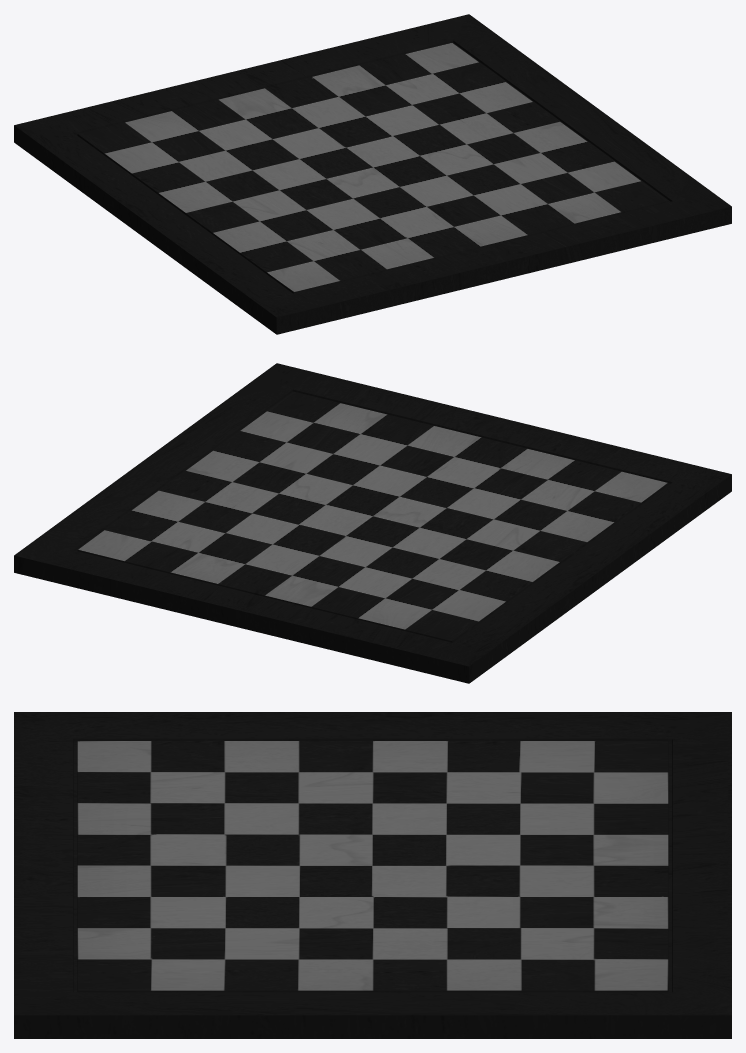
File: board.obj
3 views of the same model, one above another, from view 1: azimuth 30°, elevation 25°; view 2: azimuth 150°, elevation 25°; view 3: azimuth 270°, elevation 25° (orthographic). The views are drawn at different scales.
Parts seen in each view (by area): view 1: CHESSBOARD; view 2: CHESSBOARD; view 3: CHESSBOARD.
Boxes of the visible parts, x1=… form: CHESSBOARD: x1=14, y1=14, x2=731, y2=334; CHESSBOARD: x1=14, y1=363, x2=731, y2=683; CHESSBOARD: x1=14, y1=712, x2=731, y2=1038.
Bounding box in the file's own units: 25 × 0.9039 × 25.
